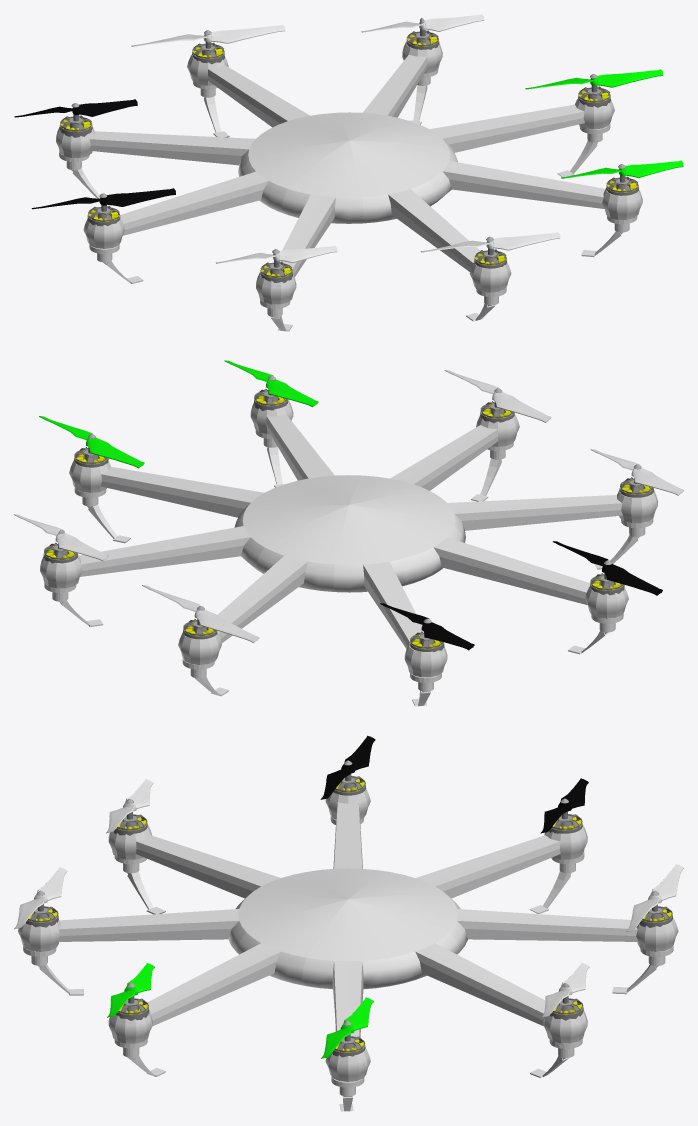
Rendered from uav_8_4.fbx.
The picture shows the model from 3 angles, top to bottom: view 1: azimuth 30°, elevation 25°; view 2: azimuth 150°, elevation 25°; view 3: azimuth 270°, elevation 25°; orthographic projection. The views are drawn at different scales.
Visible parts, largest first — view 1: pCylinder348, polySurface220, polySurface224, polySurface210, polySurface216, polySurface212, polySurface214, polySurface218, polySurface222, pCube138, pCube139, pCube140 (+3 smaller); view 2: pCylinder348, polySurface220, polySurface224, polySurface210, polySurface216, polySurface212, polySurface214, polySurface218, polySurface222, pCube138, pCube133, pCube134 (+4 smaller); view 3: pCylinder348, polySurface220, polySurface224, polySurface210, polySurface216, polySurface212, polySurface214, polySurface218, polySurface222, pCube137, pCube134, pCube133 (+3 smaller).
Part boxes in pixels (x1,y1,x2,y2): pCylinder348: (56,41,642,304); polySurface220: (131,24,285,46); polySurface224: (31,188,175,209); polySurface210: (420,232,560,252); polySurface216: (525,69,663,89); polySurface212: (361,14,484,32); polySurface214: (14,99,137,117); polySurface218: (561,160,683,178); polySurface222: (215,245,337,263); pCube138: (557,123,610,178); pCube139: (193,82,229,137); pCube140: (410,69,438,124); pCylinder348: (40,400,657,677); polySurface220: (142,585,259,642); polySurface224: (552,541,662,595); polySurface210: (444,370,551,422); polySurface216: (39,416,144,468); polySurface212: (14,514,108,561); polySurface214: (380,603,474,650); polySurface218: (224,360,318,407); polySurface222: (590,449,683,495); pCube138: (74,488,130,543); pCube133: (471,443,513,501); pCube134: (594,518,653,569); pCylinder348: (18,788,678,1081); polySurface220: (626,864,683,932); polySurface224: (320,735,375,799); polySurface210: (14,867,67,929); polySurface216: (321,997,373,1058); polySurface212: (541,962,589,1017); polySurface214: (540,778,588,833); polySurface218: (107,963,154,1017); polySurface222: (106,779,153,833); pCube137: (530,851,584,913); pCube134: (114,856,165,914); pCube133: (23,945,84,995).
Bounding box in the file's own units: 46.14 × 6.79 × 40.27.
